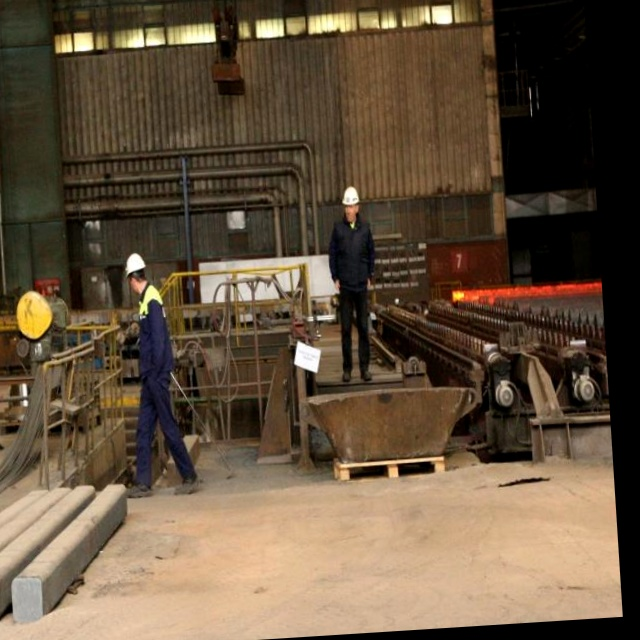Con_Casco: (123, 250, 146, 292), (342, 186, 360, 221)
Sin_Chaleco: (330, 219, 377, 287)
